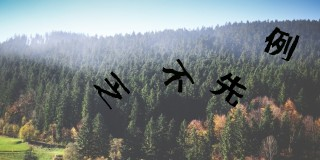不: (161, 56, 195, 93)
乏: (92, 70, 131, 110)
例: (263, 26, 299, 61)
先: (209, 72, 248, 108)
